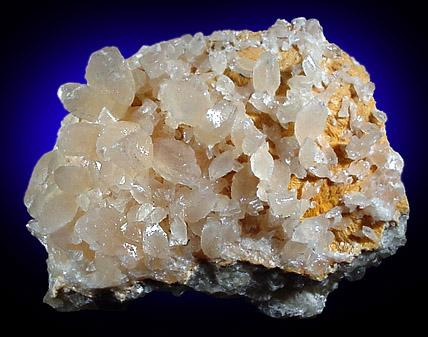calcite: (24, 32, 345, 288), (288, 17, 330, 168), (347, 123, 407, 222)
